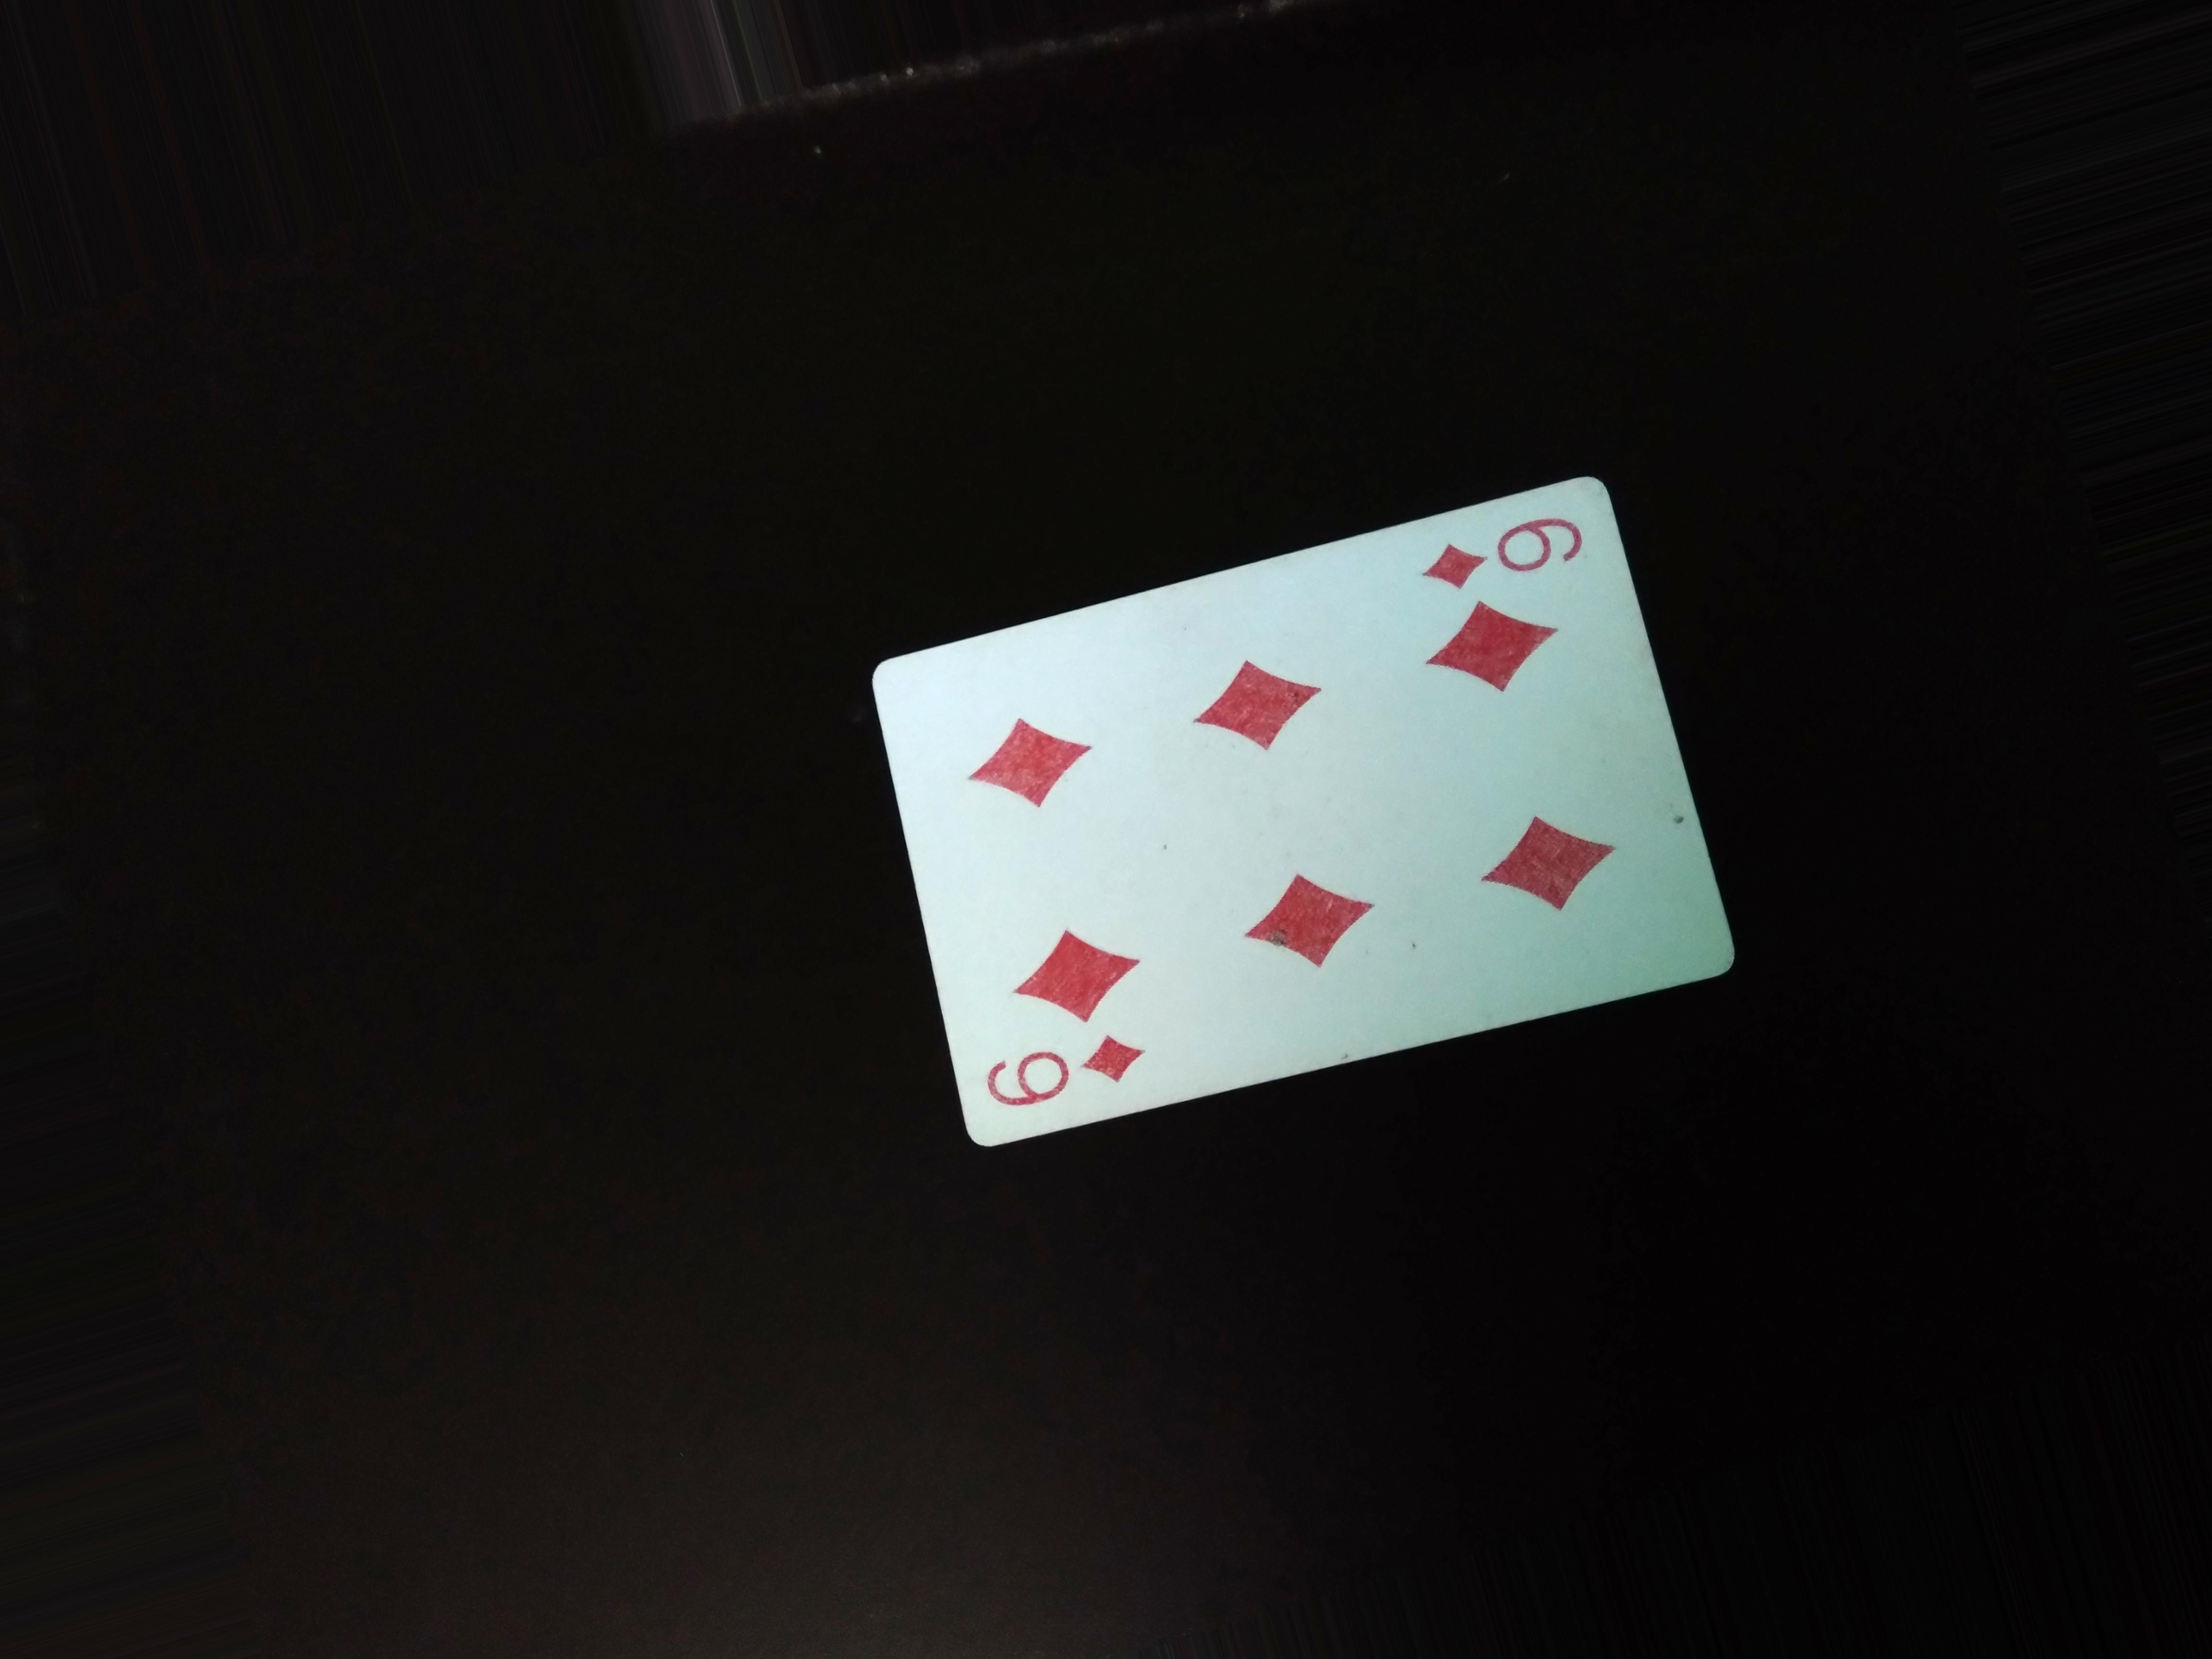6D: (1420, 504, 1594, 596)
